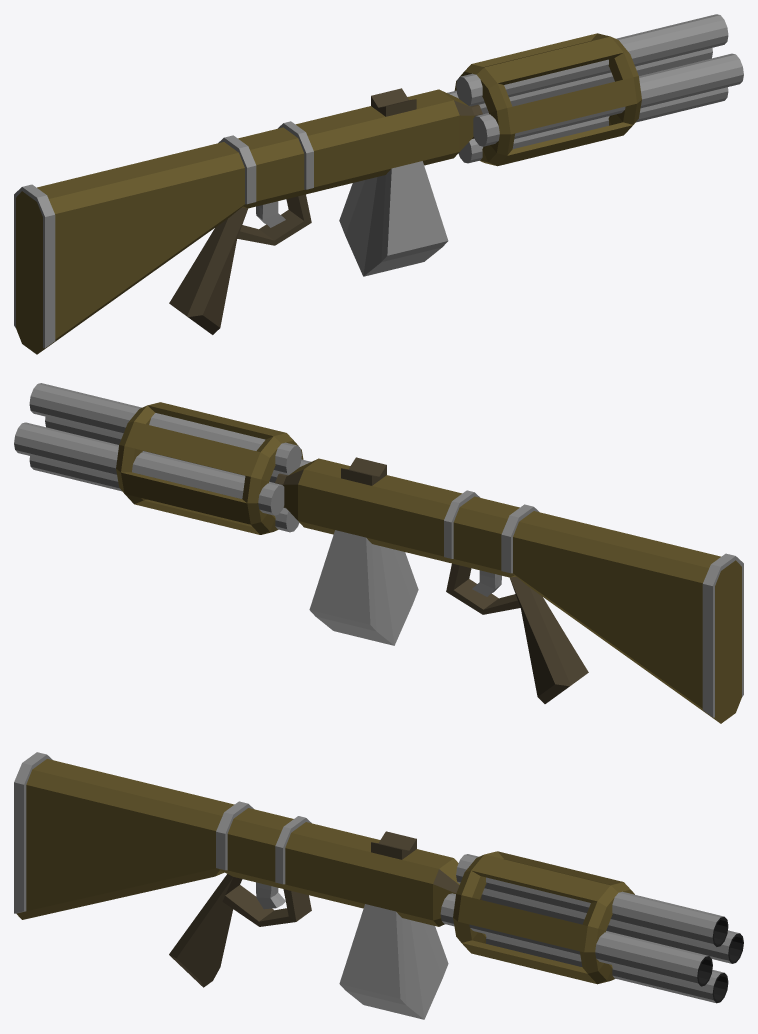
The model's file is MachineGun.dae.
3 renders of one model, top to bottom at view 1: azimuth 30°, elevation 25°; view 2: azimuth 150°, elevation 25°; view 3: azimuth 330°, elevation 25°, orthographic.
Parts seen in each view (by area): view 1: Cube, Torus; view 2: Cube, Torus; view 3: Cube, Torus.
Boxes of the visible parts, x1,y1,x2,y2 form: Cube: (14, 88, 482, 354); Torus: (447, 14, 743, 166); Cube: (275, 457, 743, 723); Torus: (14, 383, 311, 534); Cube: (14, 752, 482, 1019); Torus: (440, 851, 743, 1003).
Size of the model in its own units: 1.51 by 0.2 by 0.4124.
